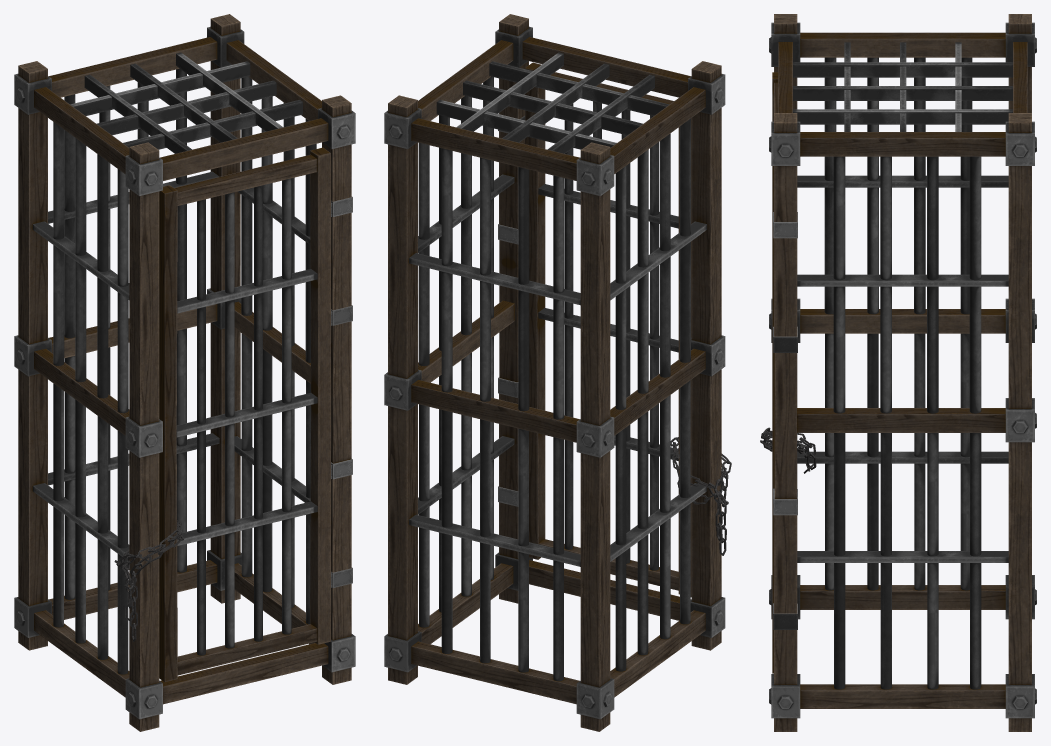
The model's file is cage_wooden_02.fbx.
3 renders of one model, left to right at view 1: azimuth 30°, elevation 25°; view 2: azimuth 150°, elevation 25°; view 3: azimuth 270°, elevation 25°, orthographic. The views are drawn at different scales.
Parts seen in each view (by area): view 1: cage_wooden_02, cage_wooden_02_door, cage_wooden_02_chainLock; view 2: cage_wooden_02, cage_wooden_02_door, cage_wooden_02_chainLock; view 3: cage_wooden_02, cage_wooden_02_door, cage_wooden_02_chainLock.
Part boxes in pixels (left/top/right/bottom): cage_wooden_02: left=14, top=14, right=355, bottom=731; cage_wooden_02_door: left=159, top=147, right=332, bottom=682; cage_wooden_02_chainLock: left=114, top=520, right=183, bottom=641; cage_wooden_02: left=384, top=14, right=725, bottom=731; cage_wooden_02_door: left=525, top=62, right=691, bottom=597; cage_wooden_02_chainLock: left=670, top=437, right=731, bottom=555; cage_wooden_02: left=769, top=14, right=1036, bottom=731; cage_wooden_02_door: left=772, top=72, right=778, bottom=673; cage_wooden_02_chainLock: left=760, top=427, right=816, bottom=473.
Bounding box in the file's own units: 200 × 484 × 200.
